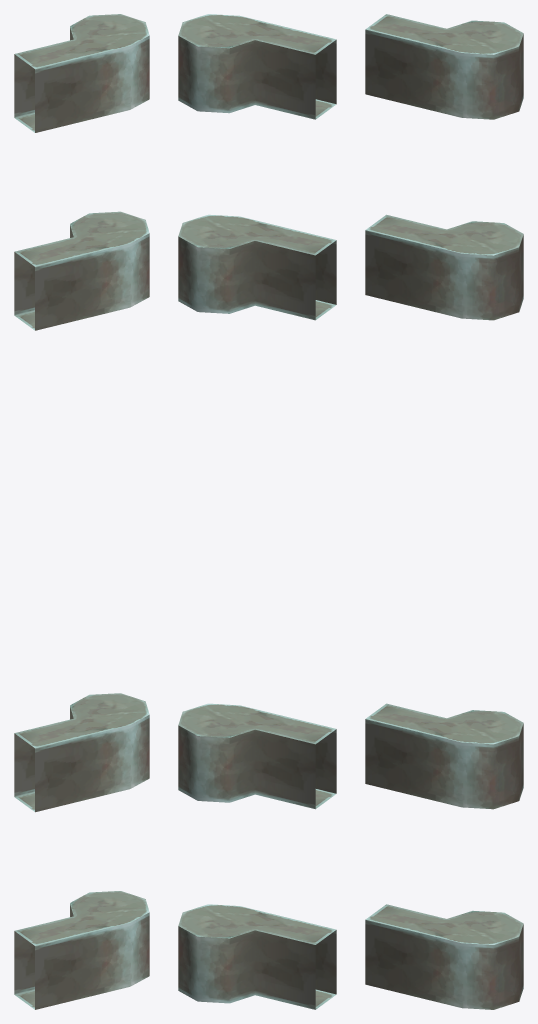
File: Hinge_01.FBX
3 renders of one model, left to right at view 1: azimuth 30°, elevation 25°; view 2: azimuth 150°, elevation 25°; view 3: azimuth 330°, elevation 25°, orthographic.
Visible parts, largest first — view 1: Hinge_01; view 2: Hinge_01; view 3: Hinge_01.
Boxes of the visible parts, x1,y1,x2,y2 form: Hinge_01: [14, 14, 149, 1009]; Hinge_01: [178, 14, 336, 1009]; Hinge_01: [365, 14, 523, 1009].
Bounding box in the file's own units: 35.2 × 19.23 × 241.
